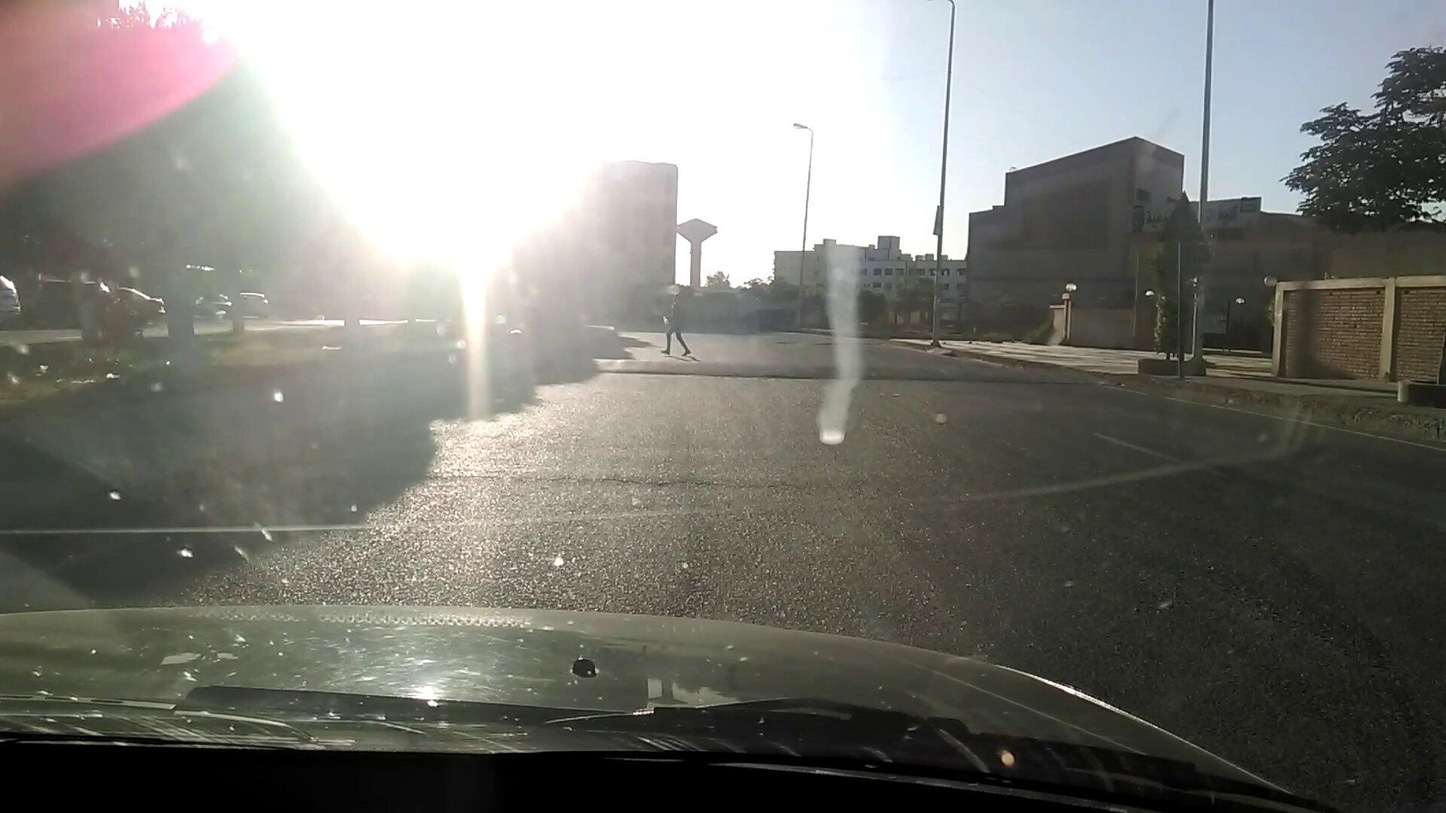Bump: (597, 354, 1030, 380)
